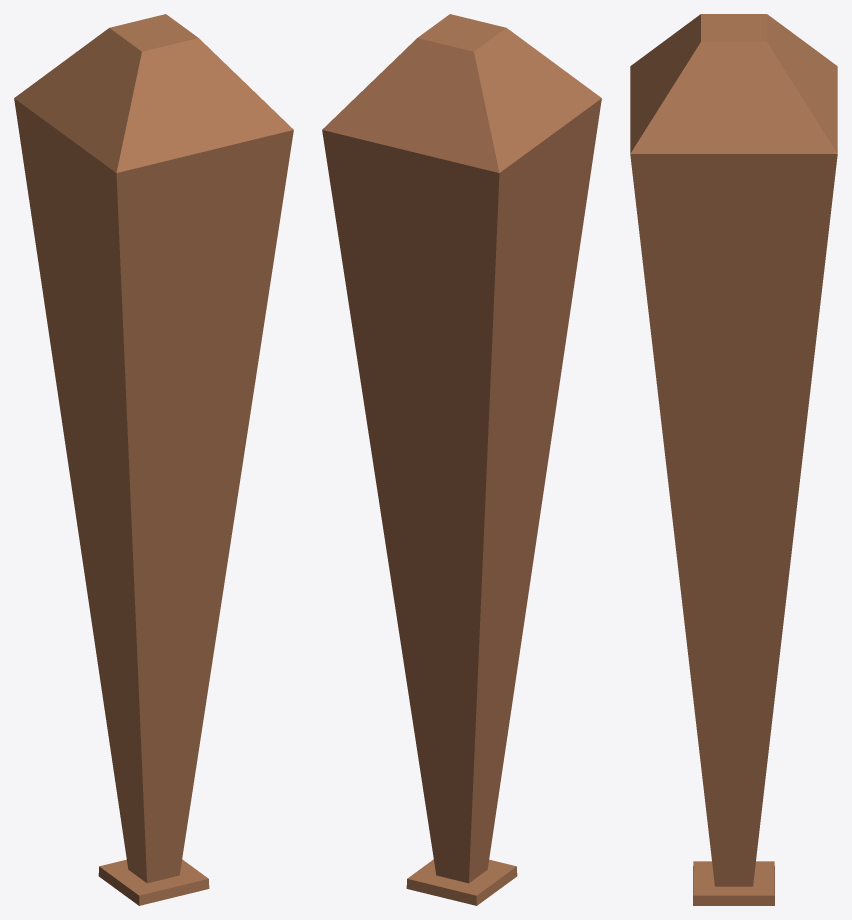
The model's file is stick.fbx.
3 renders of one model, left to right at view 1: azimuth 30°, elevation 25°; view 2: azimuth 150°, elevation 25°; view 3: azimuth 270°, elevation 25°, orthographic.
Parts seen in each view (by area): view 1: Cube.002; view 2: Cube.002; view 3: Cube.002.
Part boxes in pixels (x1,y1,x2,y2): Cube.002: (14,14,293,905); Cube.002: (322,14,601,905); Cube.002: (630,14,837,905).
Bounding box in the file's own units: 26.4 × 121 × 26.4.
Materials: 1 (1 with a texture image).
